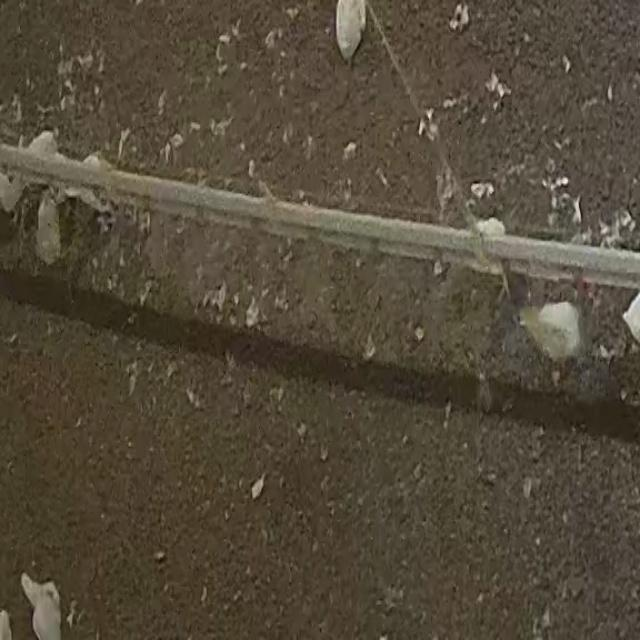chicken: (505, 290, 601, 380), (14, 576, 82, 640), (318, 0, 376, 58), (618, 266, 640, 354)
